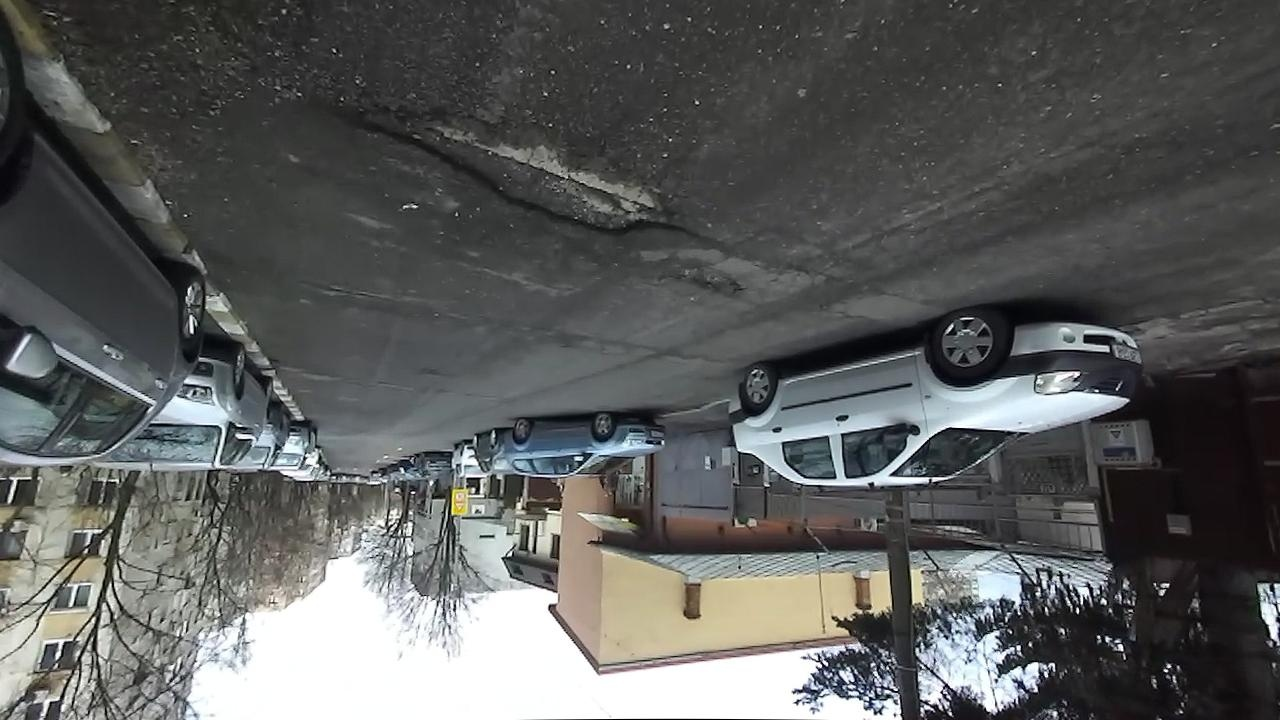pothole: (323, 95, 716, 247), (662, 262, 748, 306), (327, 283, 384, 303)
